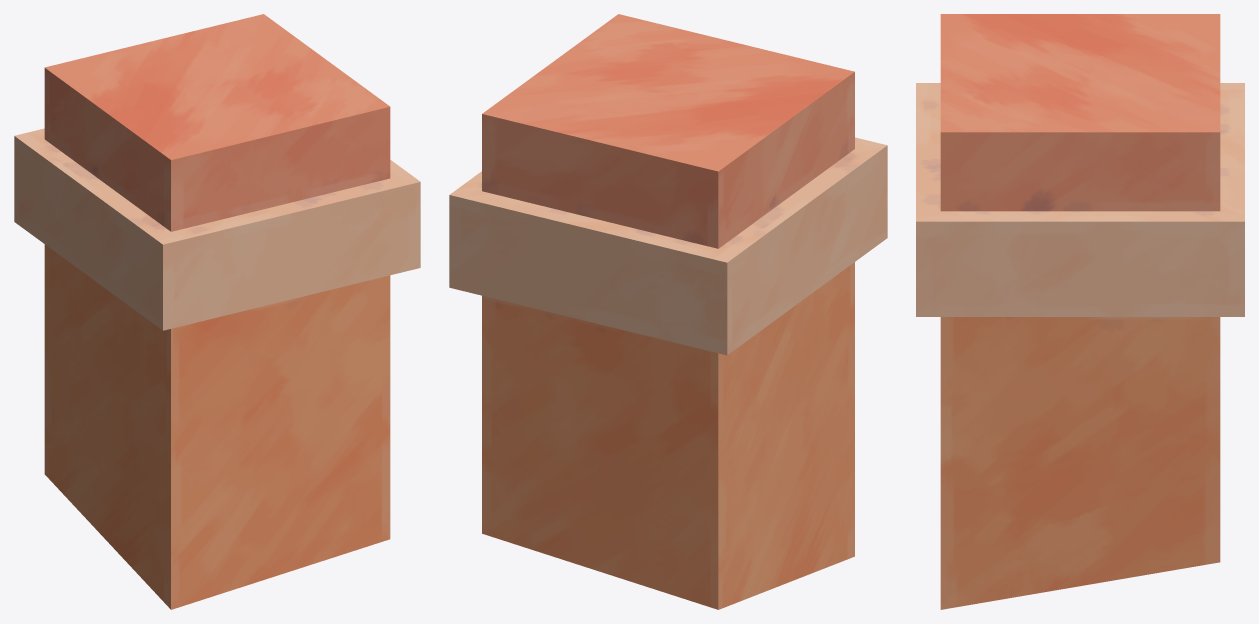
Rendered from corner2_s03.fbx.
The picture shows the model from 3 angles, left to right: view 1: azimuth 30°, elevation 25°; view 2: azimuth 150°, elevation 25°; view 3: azimuth 270°, elevation 25°; orthographic projection. The views are drawn at different scales.
Parts seen in each view (by area): view 1: corner2_s03; view 2: corner2_s03; view 3: corner2_s03.
Boxes of the visible parts, x1,y1,x2,y2 form: corner2_s03: [14, 14, 420, 609]; corner2_s03: [449, 14, 887, 609]; corner2_s03: [916, 14, 1244, 609].
Bounding box in the file's own units: 1.88 × 3.14 × 1.88.
